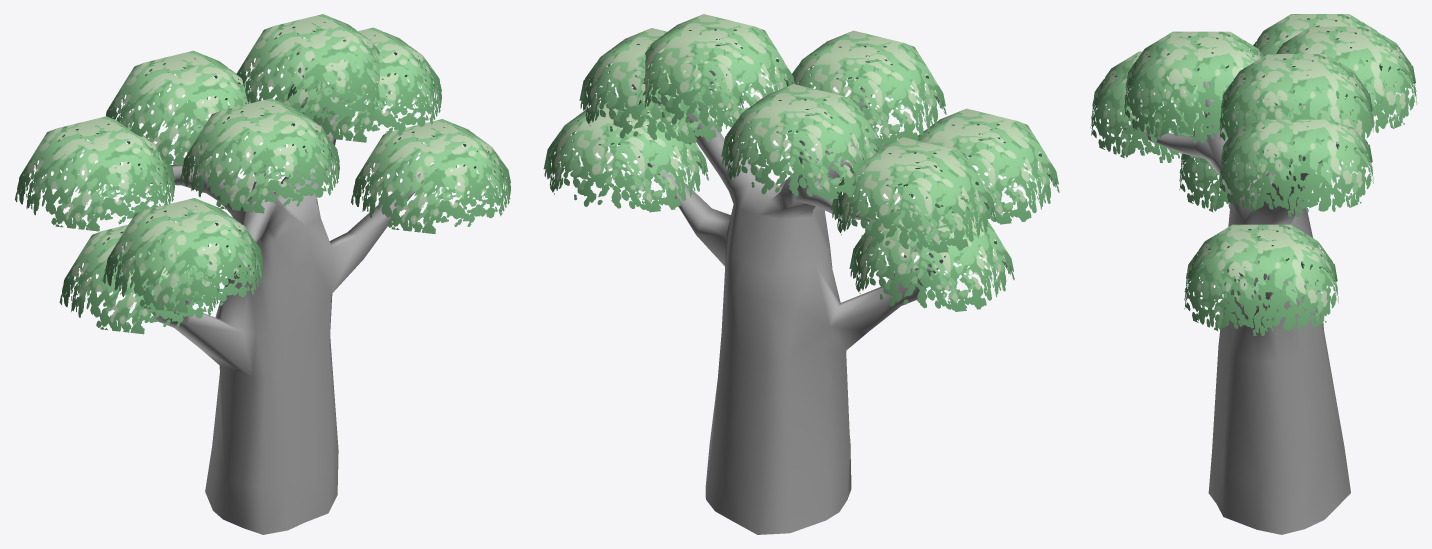
The model's file is tree1_2.fbx.
The picture shows the model from 3 angles, left to right: view 1: azimuth 30°, elevation 25°; view 2: azimuth 150°, elevation 25°; view 3: azimuth 270°, elevation 25°; orthographic projection. The views are drawn at different scales.
Visible parts, largest first — view 1: Crown, Base; view 2: Crown, Base; view 3: Crown, Base.
Part boxes in pixels (x1,y1,x2,y2): Crown: (15, 14, 510, 334); Base: (100, 47, 436, 534); Crown: (543, 14, 1059, 311); Base: (628, 50, 971, 534); Crown: (1090, 14, 1417, 335); Base: (1124, 43, 1350, 534).
Bounding box in the file's own units: 1623 × 1596 × 1027.
